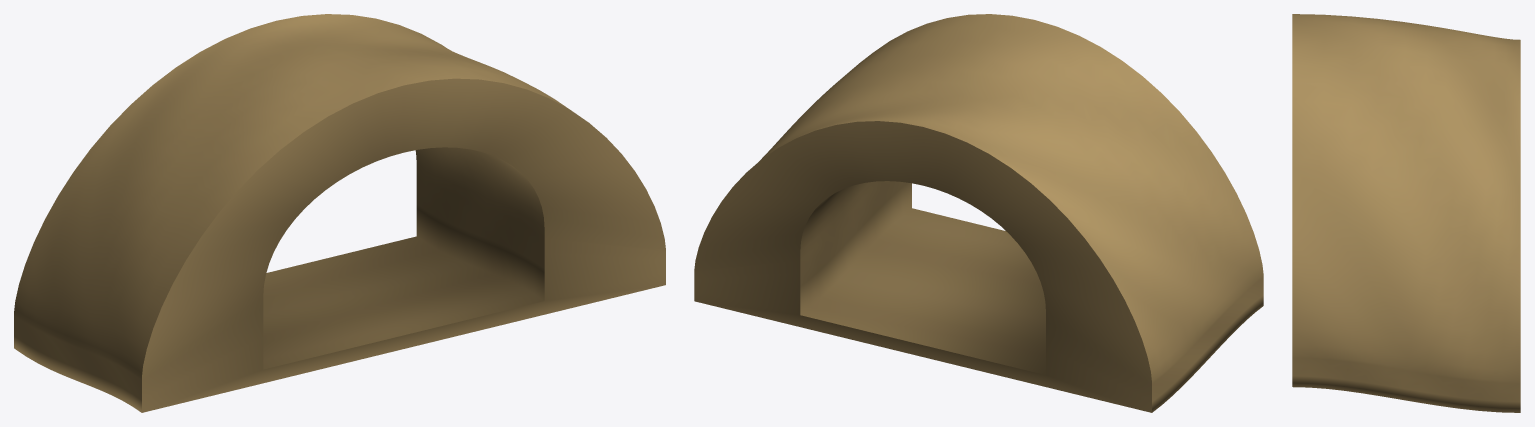
Rendered from grade_down_terrain.glb.
The picture shows the model from 3 angles, left to right: view 1: azimuth 30°, elevation 25°; view 2: azimuth 150°, elevation 25°; view 3: azimuth 270°, elevation 25°; orthographic projection. The views are drawn at different scales.
Visible parts, largest first — view 1: TerrainRoof.010; view 2: TerrainRoof.010; view 3: TerrainRoof.010.
Boxes of the visible parts, x1,y1,x2,y2 form: TerrainRoof.010: (14, 14, 665, 412); TerrainRoof.010: (694, 14, 1263, 412); TerrainRoof.010: (1292, 14, 1520, 412).
Size of the model in its own units: 28.4 by 15.15 by 12.
